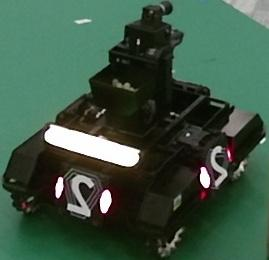armor_2: (56, 177, 111, 214)
back_2: (63, 169, 102, 218)
light: (44, 123, 141, 168)
right_2: (206, 145, 230, 190)
